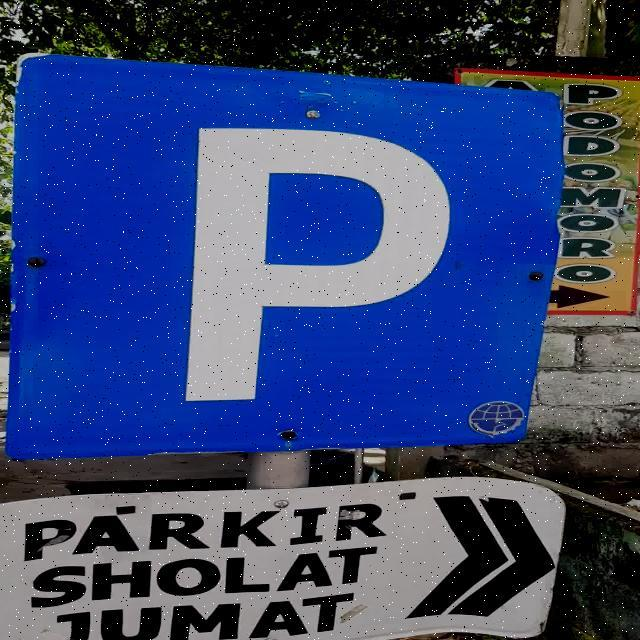Tempat Parkir: (8, 51, 564, 460)
